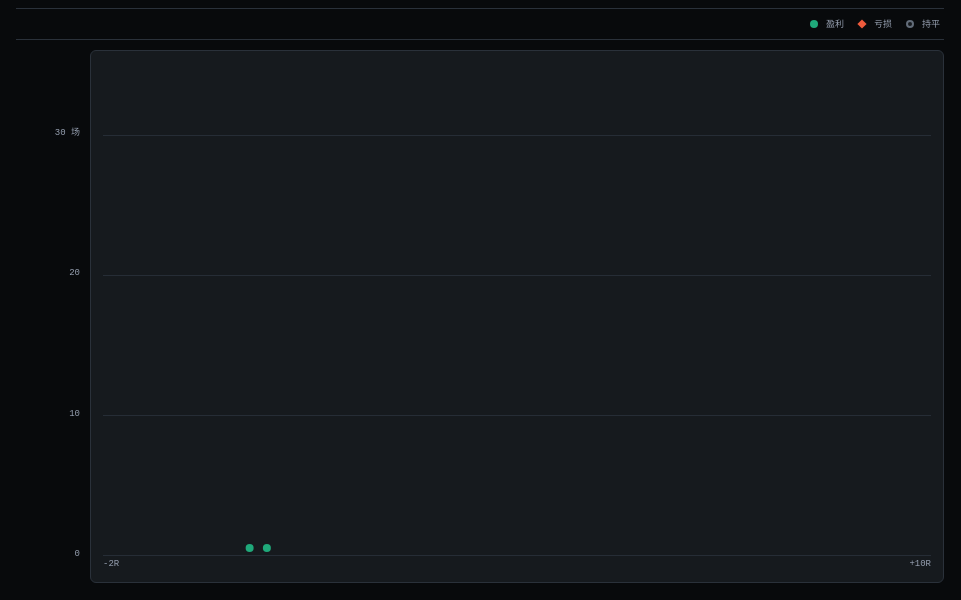
Test case: ScatterPlot 堆叠（场数）布局 › 悬停只给竖向十字线与提示框，不画横向数值线
Step 1. Hover over the button with test id "st-1" → (267, 547), box [258,540,276,554]
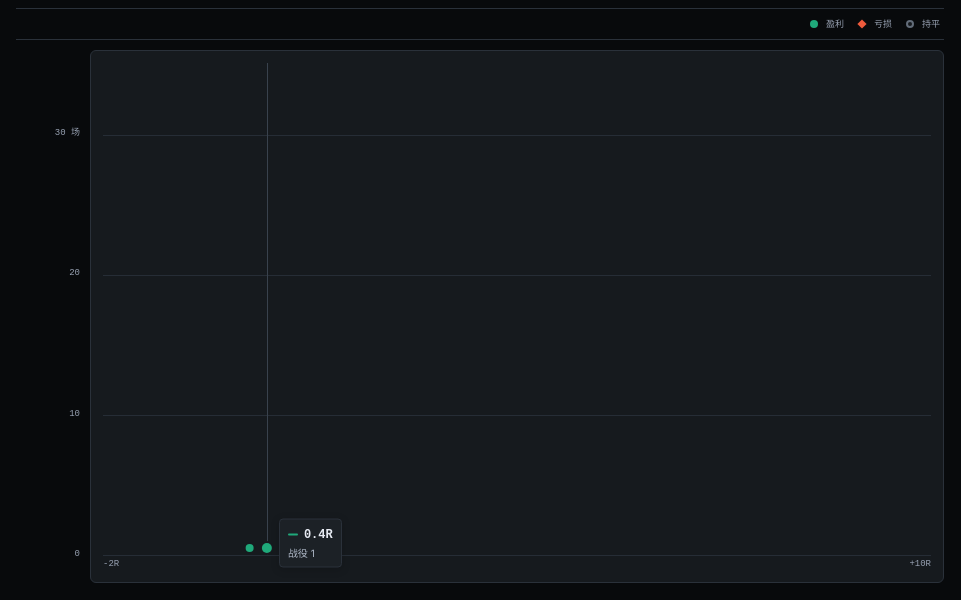
Check: the element with test id "chart-tooltip" shows "战役 1", box [288,546,315,558]
